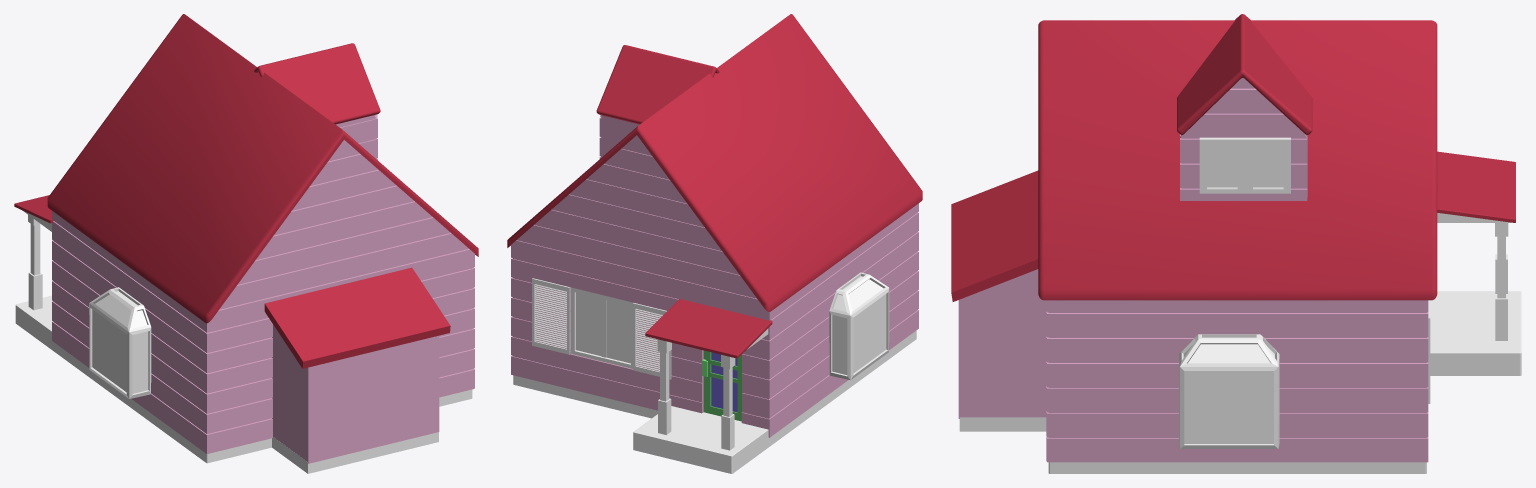
Rendered from Kame V8.glb.
3 renders of one model, left to right at view 1: azimuth 30°, elevation 25°; view 2: azimuth 150°, elevation 25°; view 3: azimuth 270°, elevation 25°, orthographic. The views are drawn at different scales.
Visible parts, largest first — view 1: Toit, Extension, Extension toit, Extension haut toit, Base, Cube.014, Cube.029, Fenêtre bizarre vitres.001, Cube.030, Cube.027, Cube.043, Cube.031 (+19 smaller); view 2: Toit, Base, Extension haut toit, Cube.006, Cube.059, Cube.007, Cube.008, Fenêtre bizarre vitres.001, Cube, Vitre, Cube.001, Cube.009 (+26 smaller); view 3: Toit, Base, Extension, Cube.020, Extension toit, Cube.015, Fenêtre bizarre vitres, Extension haut toit, Cube.019, Cube.016, Cube.017, Cube.018 (+11 smaller).
Boxes of the visible parts, x1,y1,x2,y2 form: Toit: (47, 14, 478, 323); Extension: (272, 324, 439, 463); Extension toit: (264, 267, 450, 368); Extension haut toit: (254, 43, 380, 124); Base: (15, 295, 472, 473); Cube.014: (220, 233, 468, 308); Cube.029: (238, 217, 450, 284); Fenêtre bizarre vitres.001: (92, 291, 148, 393); Cube.030: (256, 201, 432, 259); Cube.027: (52, 221, 208, 352); Cube.043: (206, 249, 473, 332); Cube.031: (274, 185, 413, 235); Toit: (507, 14, 922, 311); Base: (513, 330, 916, 473); Extension haut toit: (596, 45, 719, 124); Cube.006: (513, 240, 767, 319); Cube.059: (645, 299, 772, 358); Cube.007: (517, 225, 756, 297); Cube.008: (535, 209, 738, 273); Fenêtre bizarre vitres.001: (832, 276, 886, 374); Cube: (513, 356, 702, 413); Vitre: (576, 292, 630, 363); Cube.001: (513, 337, 702, 401); Cube.009: (552, 194, 721, 250); Toit: (1038, 20, 1437, 300); Base: (959, 291, 1521, 473); Extension: (958, 269, 1046, 418); Cube.020: (1047, 312, 1428, 337); Extension toit: (951, 170, 1038, 301); Cube.015: (1047, 437, 1428, 462); Fenêtre bizarre vitres: (1183, 344, 1274, 443); Extension haut toit: (1177, 14, 1312, 134); Cube.019: (1047, 337, 1428, 362); Cube.016: (1047, 412, 1428, 437); Cube.017: (1047, 387, 1428, 412); Cube.018: (1047, 362, 1428, 387).
Bounding box in the file's own units: 7.1 × 6.63 × 9.04.
